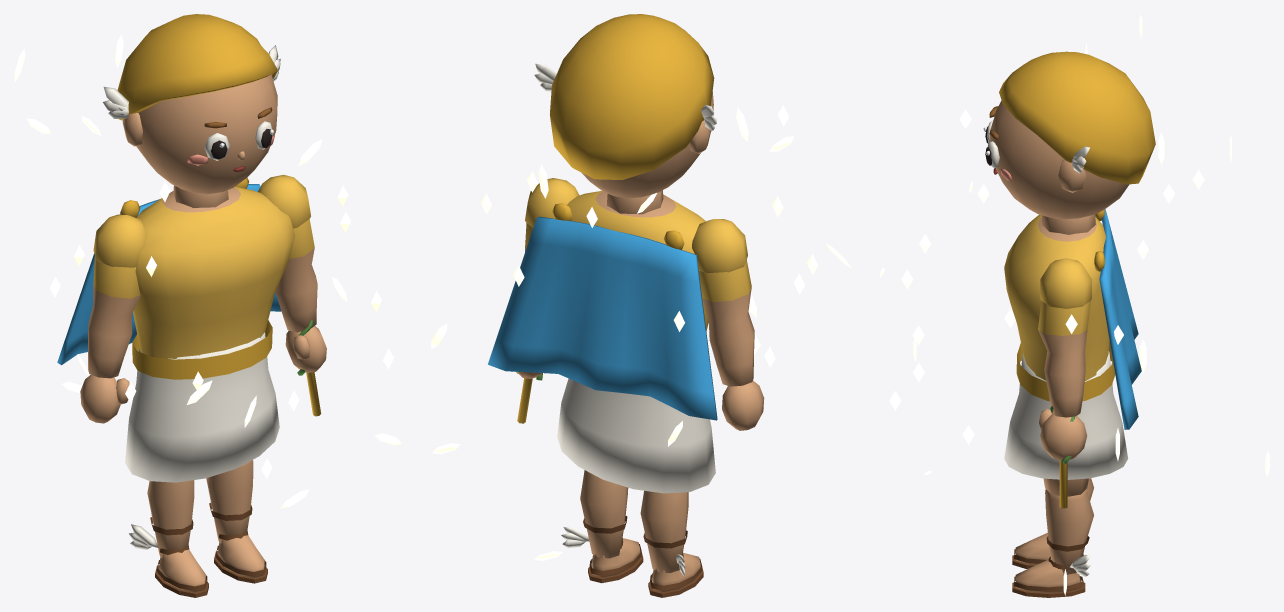
Rendered from hermes.glb.
The picture shows the model from 3 angles, left to right: view 1: azimuth 30°, elevation 25°; view 2: azimuth 150°, elevation 25°; view 3: azimuth 270°, elevation 25°; orthographic projection. The views are drawn at different scales.
Visible parts, largest first — view 1: rumpf, huefte, kopf, kopfschmuck, armL, armR, knieL, knieR, umhang, vfx_federn_0, vfx_federn_2, vfx_federn_1 (+4 smaller); view 2: umhang, kopfschmuck, huefte, armL, knieR, knieL, rumpf, kopf, armR, vfx_federn_2, vfx_federn_0, vfx_glitzer_0; view 3: kopfschmuck, rumpf, armR, kopf, huefte, knieR, umhang, knieL, vfx_glitzer_0, vfx_glitzer_2, beinR, vfx_glitzer_1.
Part boxes in pixels (x1,y1,x2,y2): rumpf: (132,186,294,379); huefte: (125,332,279,482); kopf: (122,74,277,207); kopfschmuck: (103,14,280,120); armL: (80,214,146,423); armR: (258,174,326,372); knieL: (129,480,208,597); knieR: (206,460,267,583); umhang: (57,177,281,365); vfx_federn_0: (14,49,256,427); vfx_federn_2: (81,34,401,445); vfx_federn_1: (61,139,322,508); umhang: (488,203,717,420); kopfschmuck: (534,14,716,179); huefte: (557,378,715,493); armL: (692,219,764,430); knieR: (561,470,643,583); knieL: (640,490,703,597); rumpf: (567,191,708,331); kopf: (581,92,713,214); armR: (517,178,579,378); vfx_federn_2: (431,164,656,454); vfx_federn_0: (736,107,851,317); vfx_glitzer_0: (526,171,818,367); kopfschmuck: (999,51,1155,184); rumpf: (1004,214,1115,401); armR: (1038,258,1091,460); kopf: (990,100,1129,234); huefte: (1004,351,1128,479); knieR: (1012,489,1093,597); umhang: (1094,209,1141,429); knieL: (1012,478,1093,568); vfx_glitzer_0: (901,170,1204,444); vfx_glitzer_2: (889,184,1123,410); beinR: (1043,478,1088,496); vfx_glitzer_1: (912,109,1148,344).
Size of the model in its own units: 1.61 by 2.3 by 1.57.
